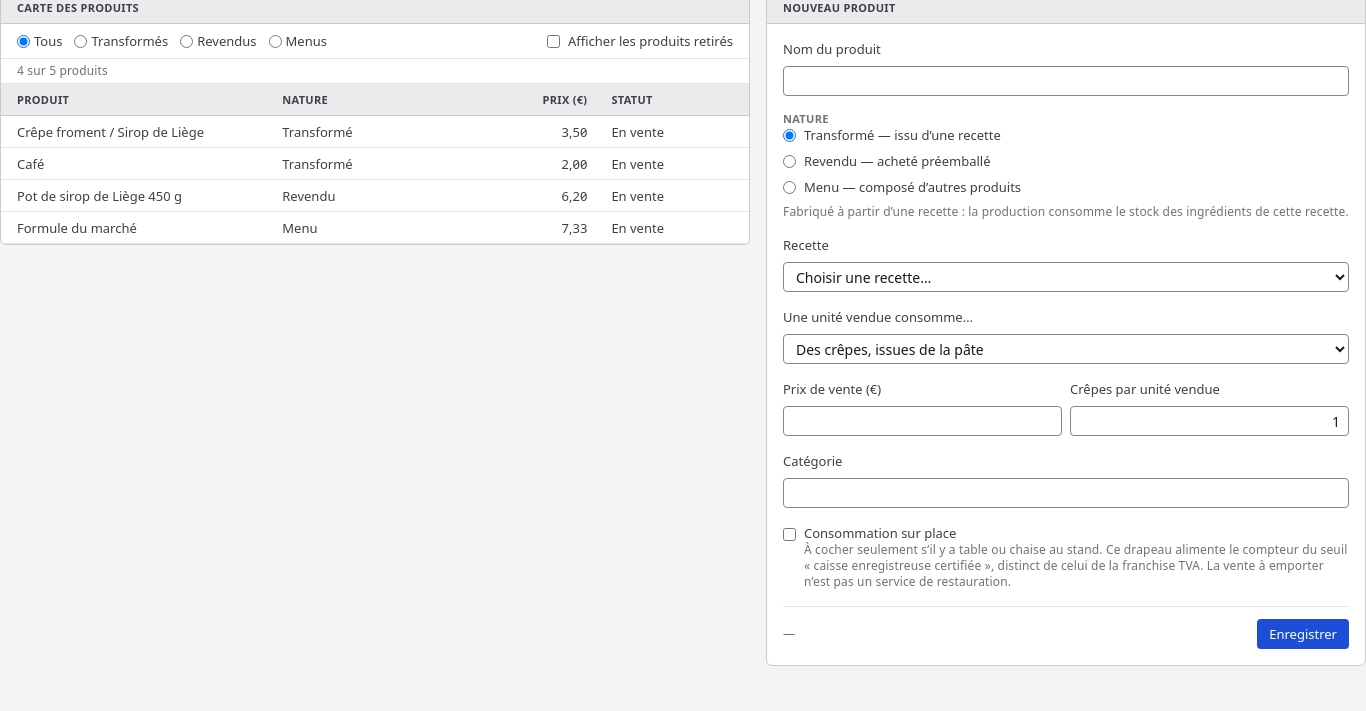
Scenario: Produits — les trois natures › le même menu, une fois composé, ne porte plus l’alerte — le signal reste rare
The image size is (1366, 711).
Click the row "Formule du marché Menu 7,33 En vente" at (375,228), box x1=1 y1=212 x2=749 y2=244
(page scrolled)
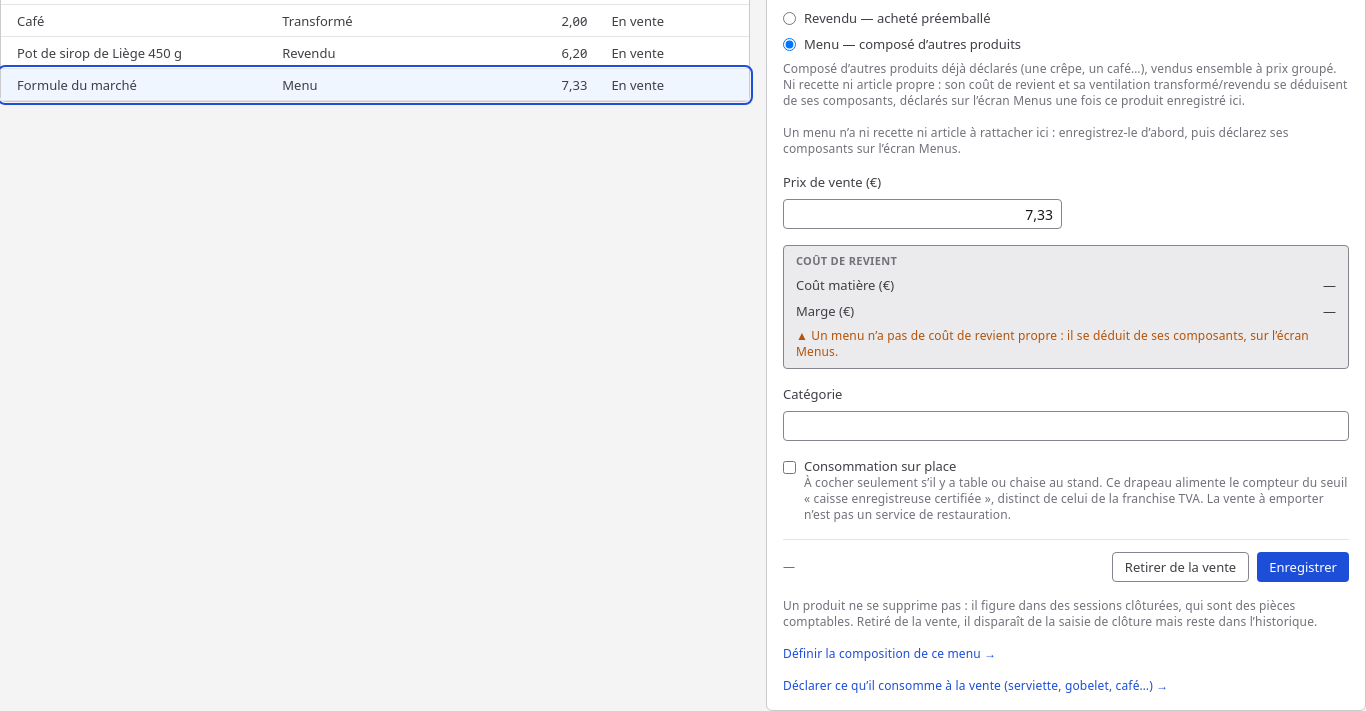
Check: the button "Définir la composition de ce menu →" is shown, box x1=783 y1=646 x2=996 y2=662
